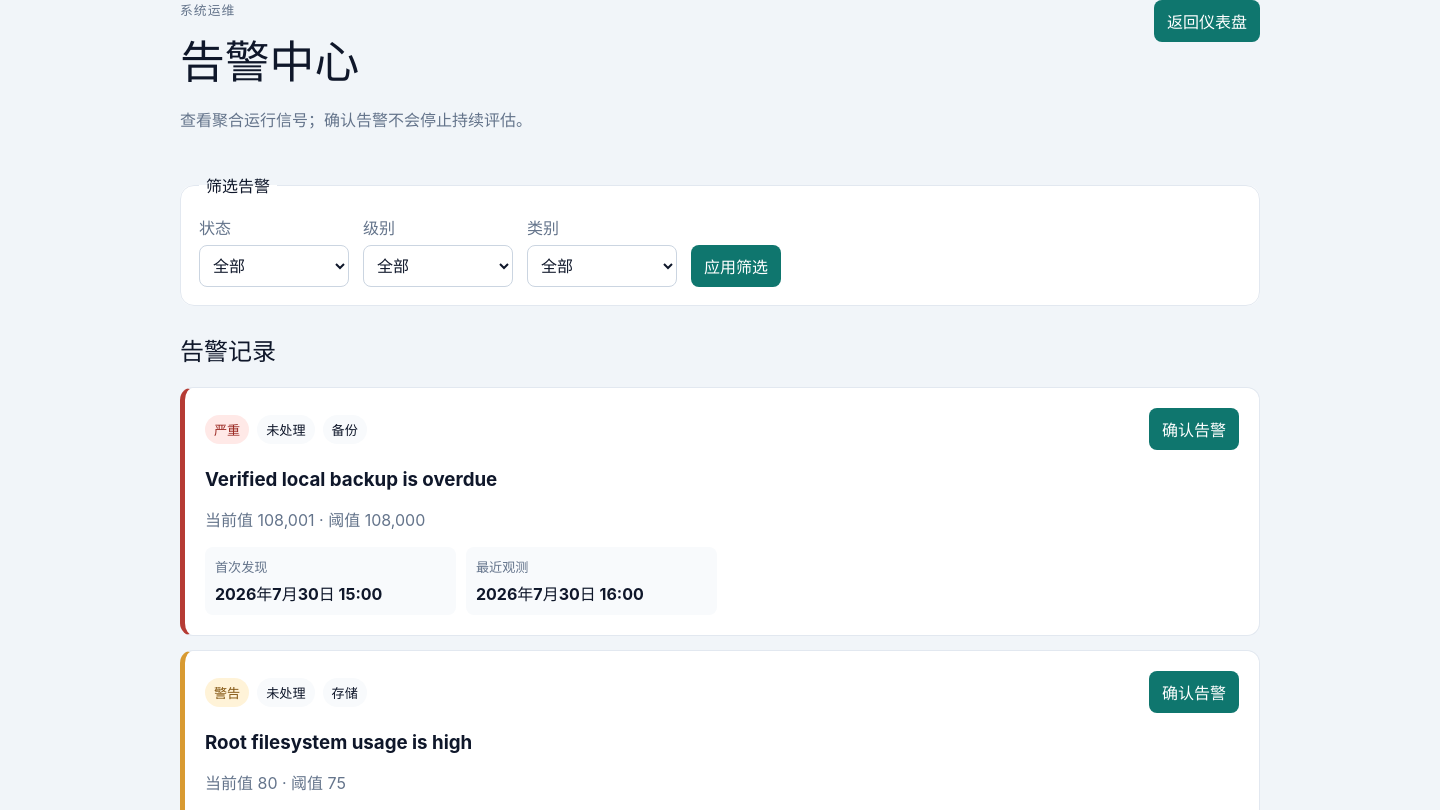
AlertsView › keeps the dialog open and focuses mutation feedback after an acknowledgement error
Click the button "确认告警" in the row of "备份" at (1194, 429), box [1149, 408, 1239, 450]
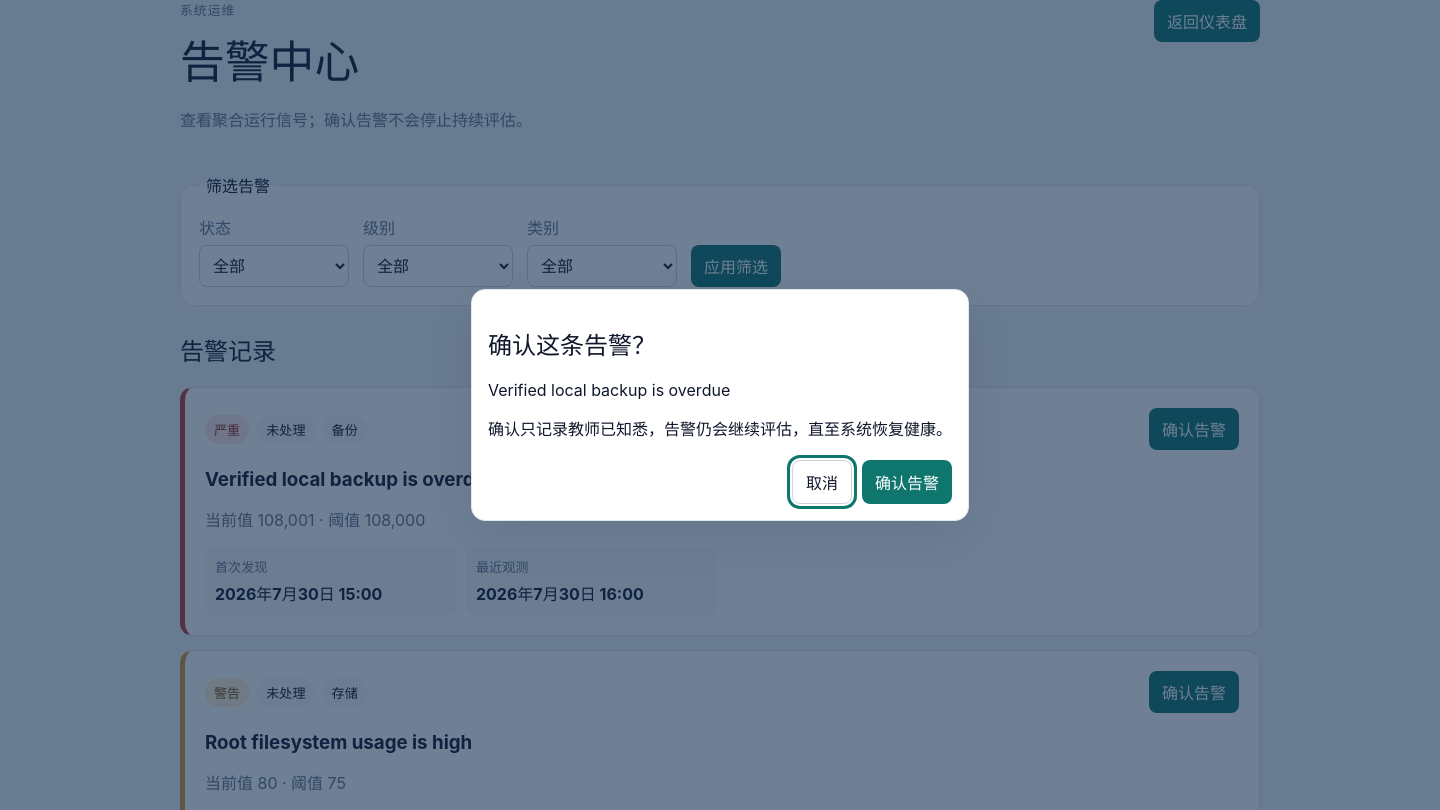
Click the button with test id "confirm-acknowledge" at (907, 482), box [862, 460, 952, 504]
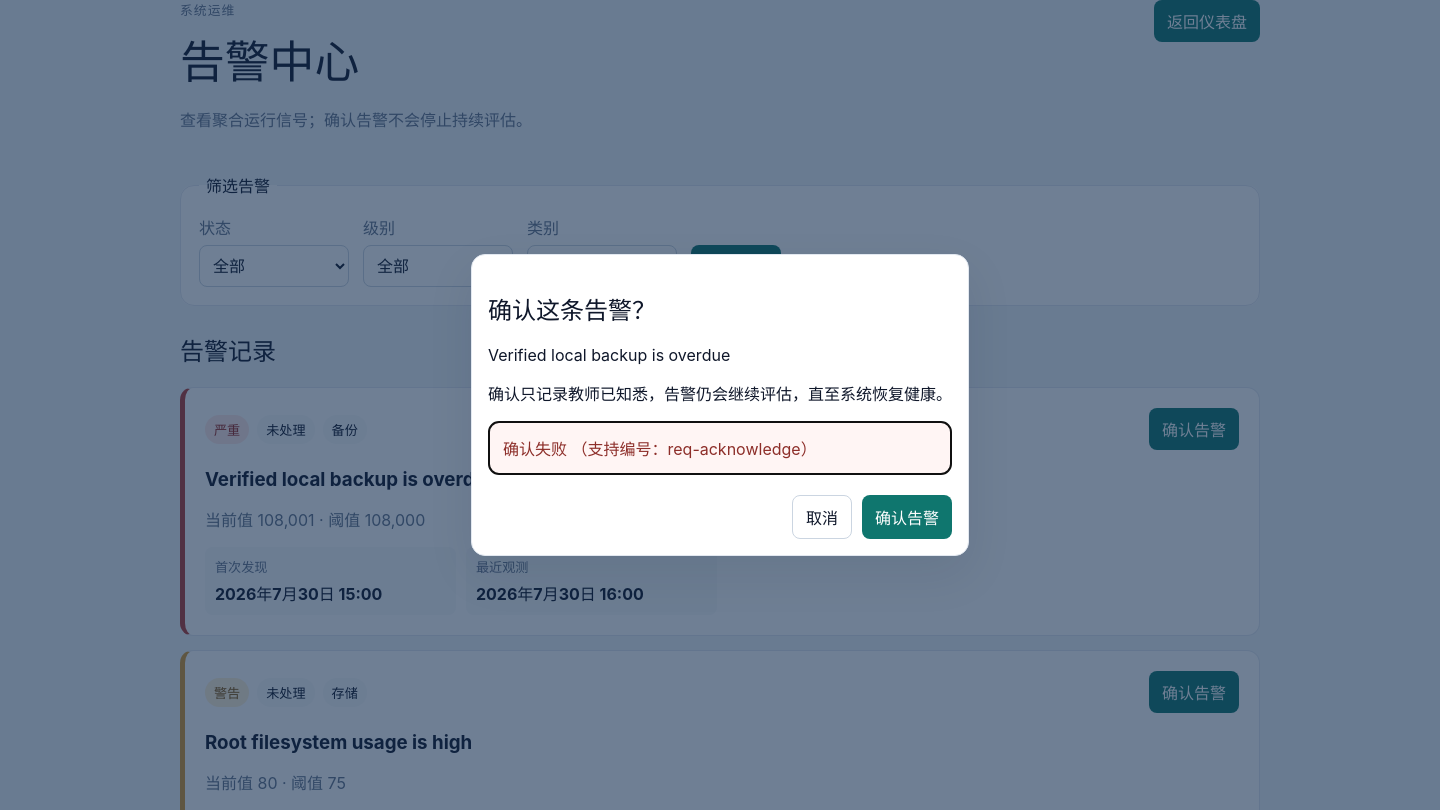
Expected: the message with test id "acknowledge-error" shows "req-acknowledge", [572, 439, 817, 459]
